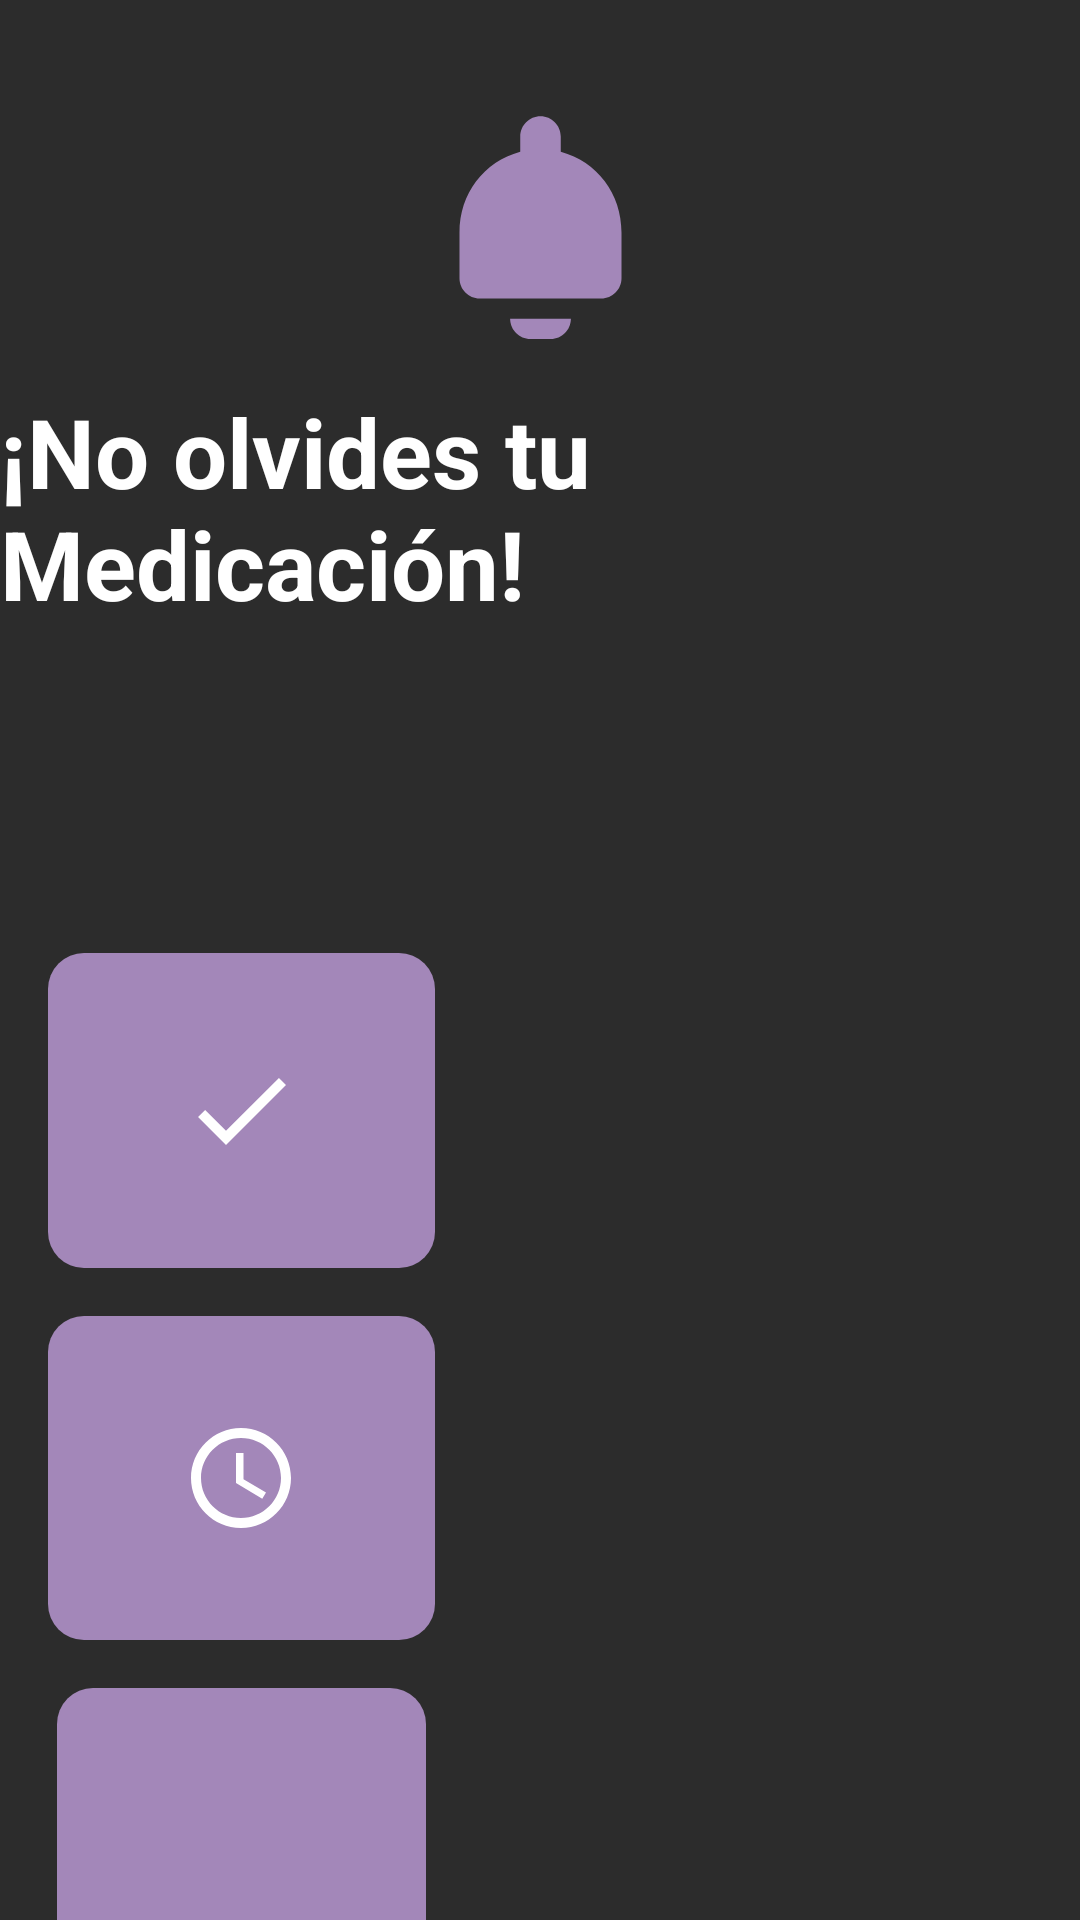

Icons on this 1080 × 1920 Android screen, each with its box as box(x1, y1, x2, y2):
bell: box(459, 116, 622, 339)
postpon: box(191, 1428, 291, 1528)
taken: box(198, 1078, 286, 1145)
